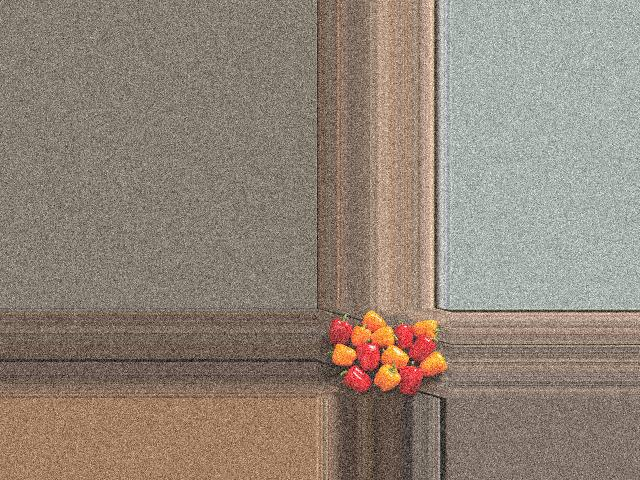bell_pepper: (412, 351, 447, 381)
